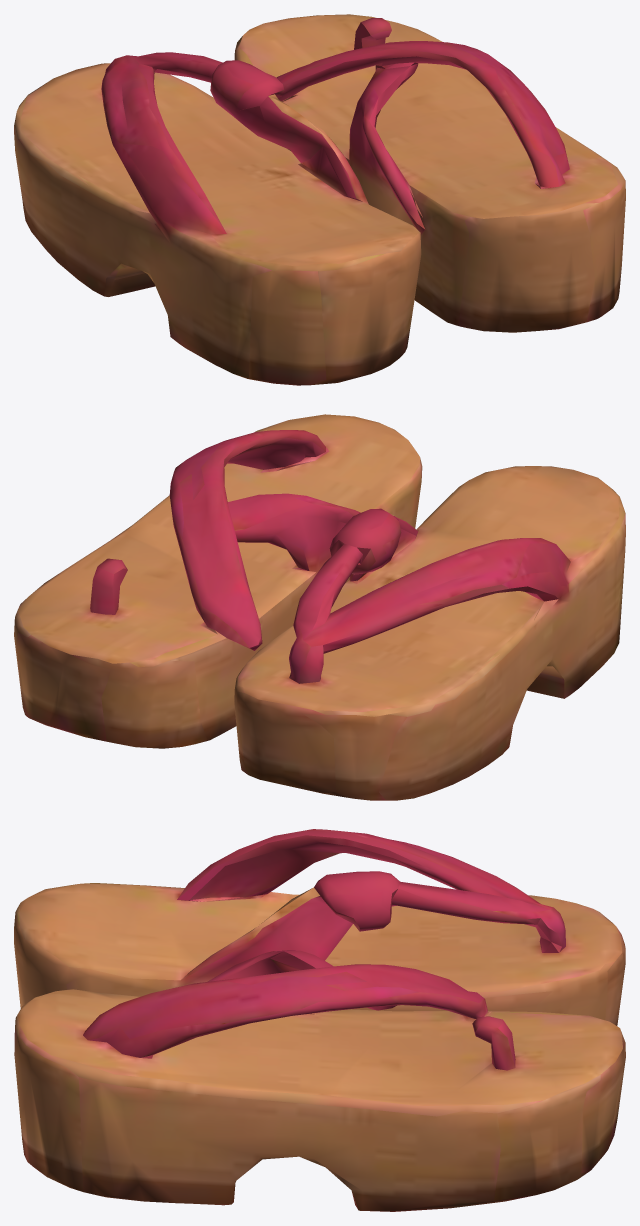
File: geta.glb
The picture shows the model from 3 angles, top to bottom: view 1: azimuth 30°, elevation 25°; view 2: azimuth 150°, elevation 25°; view 3: azimuth 270°, elevation 25°; orthographic projection. The views are drawn at different scales.
Parts seen in each view (by area): view 1: geta; view 2: geta; view 3: geta.
Boxes of the visible parts, box(x1,y1,x2,y2) form: geta: box(14, 14, 625, 385); geta: box(14, 414, 625, 800); geta: box(14, 829, 625, 1211).
Bounding box in the file's own units: 0.2067 × 0.09 × 0.2454.
1 material, 1 textured.
